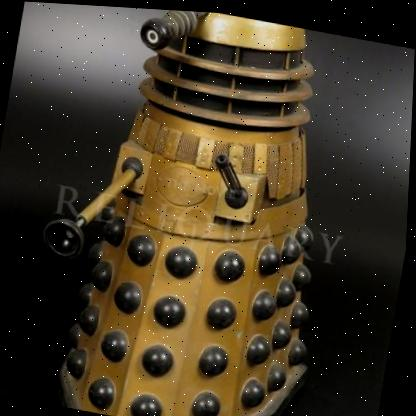dalek: (22, 2, 391, 416)
